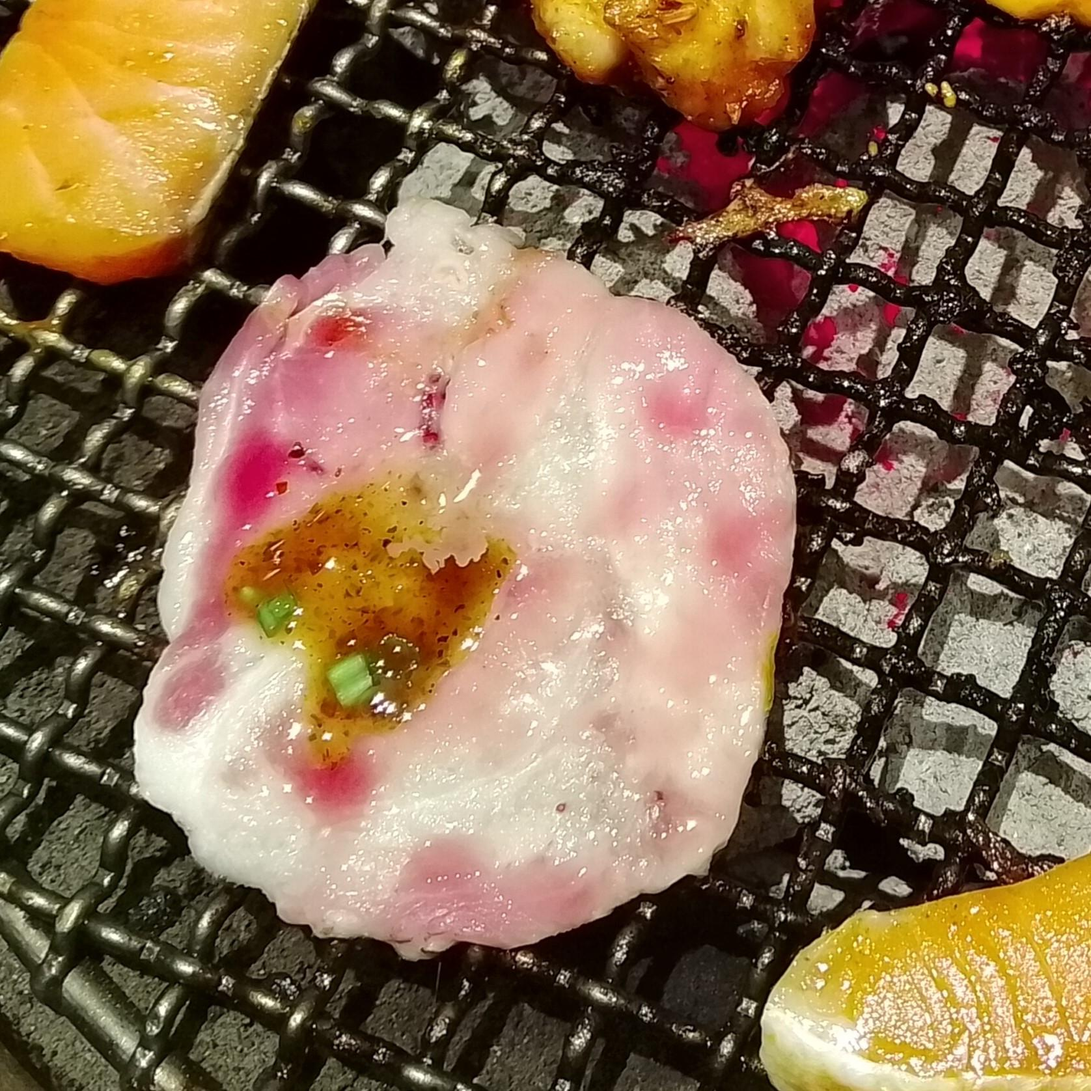Undercooked: (135, 199, 795, 958)
